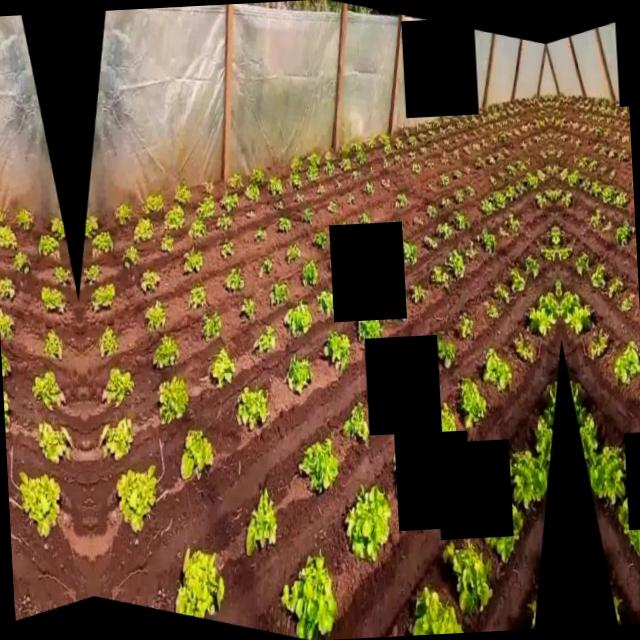healthy: (279, 553, 337, 640), (342, 484, 394, 560), (172, 546, 225, 617), (443, 539, 494, 612), (113, 462, 161, 536), (17, 468, 65, 540), (482, 502, 524, 564), (410, 584, 460, 635), (242, 488, 279, 556), (296, 440, 341, 494), (509, 448, 550, 505), (587, 444, 628, 501), (178, 427, 216, 482), (156, 374, 190, 426), (99, 416, 135, 462), (37, 419, 73, 465), (234, 384, 270, 429), (457, 374, 486, 428), (481, 347, 513, 393), (32, 369, 67, 410), (100, 365, 134, 406), (618, 495, 640, 557), (340, 400, 369, 447), (612, 340, 640, 385), (323, 330, 352, 372), (286, 356, 314, 396), (532, 412, 554, 462), (578, 410, 600, 460), (208, 347, 234, 387), (151, 334, 180, 368), (284, 302, 312, 336), (512, 331, 538, 366), (586, 327, 611, 362), (526, 308, 554, 336), (568, 306, 596, 334), (144, 298, 168, 330), (97, 324, 119, 358), (43, 327, 65, 361), (90, 282, 114, 312), (42, 284, 66, 314), (430, 263, 452, 294), (544, 379, 561, 416), (568, 378, 585, 415), (355, 316, 380, 341), (252, 326, 276, 352), (36, 232, 60, 258), (439, 400, 458, 432), (438, 338, 457, 370), (446, 249, 465, 281), (202, 310, 222, 340), (223, 266, 245, 293), (182, 248, 204, 275), (559, 290, 580, 318), (164, 205, 185, 232), (138, 269, 161, 293), (92, 230, 115, 254), (539, 292, 560, 318), (133, 212, 153, 238), (195, 195, 215, 221), (508, 262, 524, 294), (592, 258, 608, 290), (2, 383, 12, 432), (144, 193, 165, 216), (15, 207, 36, 230), (270, 282, 290, 306), (218, 188, 238, 212), (0, 306, 15, 338), (301, 258, 318, 286), (616, 220, 634, 246), (188, 284, 207, 308), (456, 314, 474, 339), (494, 280, 512, 305), (606, 274, 624, 299), (318, 290, 334, 318), (0, 219, 17, 245), (538, 242, 558, 264), (113, 202, 133, 224), (173, 183, 193, 205), (556, 241, 576, 263), (408, 280, 426, 304), (478, 228, 496, 252), (83, 261, 101, 285), (122, 243, 140, 267), (188, 218, 206, 242), (54, 262, 72, 286), (12, 248, 30, 272), (240, 297, 256, 323), (84, 214, 100, 240), (50, 216, 66, 242), (0, 276, 17, 300), (524, 255, 539, 281), (402, 240, 417, 266), (576, 252, 591, 278), (1, 342, 12, 377), (436, 221, 454, 242), (305, 161, 320, 185), (216, 212, 233, 232), (484, 299, 499, 321), (463, 239, 478, 261), (620, 292, 635, 314), (612, 190, 630, 208), (454, 212, 471, 231), (160, 232, 174, 255), (312, 230, 328, 250), (268, 177, 284, 197), (479, 197, 496, 215), (286, 244, 302, 263), (276, 217, 292, 236), (226, 173, 242, 192), (492, 189, 506, 210), (602, 183, 616, 204), (244, 185, 261, 202), (290, 170, 303, 192), (506, 212, 520, 232), (590, 208, 604, 228), (288, 155, 304, 171), (260, 256, 272, 277), (220, 240, 234, 258), (248, 167, 262, 185), (338, 140, 352, 158), (505, 184, 518, 203), (589, 180, 602, 199), (525, 172, 539, 189), (339, 155, 353, 172), (202, 178, 216, 195), (567, 170, 581, 187), (323, 161, 335, 180), (321, 148, 336, 163), (326, 198, 340, 214), (308, 149, 322, 165), (535, 192, 547, 210), (561, 190, 573, 208), (578, 175, 590, 193), (441, 194, 454, 210), (301, 208, 314, 224), (396, 192, 408, 209), (517, 178, 528, 196), (422, 236, 436, 250), (352, 140, 366, 154), (452, 188, 464, 204), (366, 133, 378, 149), (362, 180, 373, 197), (472, 157, 486, 170), (358, 211, 371, 224), (426, 204, 438, 218), (409, 162, 421, 176), (378, 132, 390, 146), (618, 150, 632, 162), (355, 151, 366, 166), (506, 165, 518, 178), (393, 137, 405, 150), (588, 160, 600, 173), (345, 190, 356, 204), (426, 128, 437, 142), (255, 228, 266, 242), (380, 178, 392, 190), (544, 188, 554, 202), (536, 168, 546, 182), (440, 172, 450, 186), (438, 152, 448, 166), (554, 188, 564, 202), (558, 167, 568, 181), (393, 154, 404, 166), (407, 135, 418, 147), (382, 143, 392, 156), (552, 162, 562, 175), (466, 184, 475, 198), (544, 163, 554, 175), (516, 160, 526, 172), (488, 175, 498, 187), (452, 168, 462, 180), (400, 126, 410, 138), (578, 156, 588, 168), (608, 168, 618, 180), (416, 132, 426, 143), (608, 147, 618, 158), (497, 170, 506, 182), (463, 164, 472, 176), (451, 148, 460, 160), (489, 132, 498, 144), (498, 130, 507, 142), (599, 164, 608, 176), (603, 126, 612, 138), (594, 125, 603, 137), (486, 154, 496, 164), (438, 128, 448, 138), (447, 124, 457, 134), (481, 138, 489, 150), (501, 147, 510, 157), (408, 150, 417, 160), (593, 142, 602, 152), (496, 153, 505, 162), (424, 160, 434, 168), (621, 134, 629, 144), (613, 132, 621, 142), (473, 142, 481, 151), (522, 125, 530, 134), (598, 148, 607, 156), (571, 122, 579, 131), (557, 148, 564, 158), (520, 141, 528, 149), (462, 146, 470, 154), (442, 138, 450, 146), (574, 138, 582, 146), (513, 128, 520, 137), (419, 147, 428, 154), (581, 125, 588, 134), (0, 201, 3, 222), (546, 146, 552, 156), (539, 150, 546, 158), (506, 129, 513, 137), (588, 124, 595, 132), (534, 135, 540, 144), (528, 122, 534, 131), (552, 146, 558, 155), (566, 120, 572, 129), (606, 115, 612, 124), (507, 115, 514, 122), (585, 111, 592, 118), (502, 118, 508, 126), (488, 122, 494, 130), (432, 142, 438, 150), (562, 134, 568, 142), (592, 114, 598, 122), (635, 230, 637, 252), (495, 121, 501, 128), (515, 114, 520, 122), (579, 111, 584, 119), (599, 116, 605, 122), (632, 176, 634, 190)
